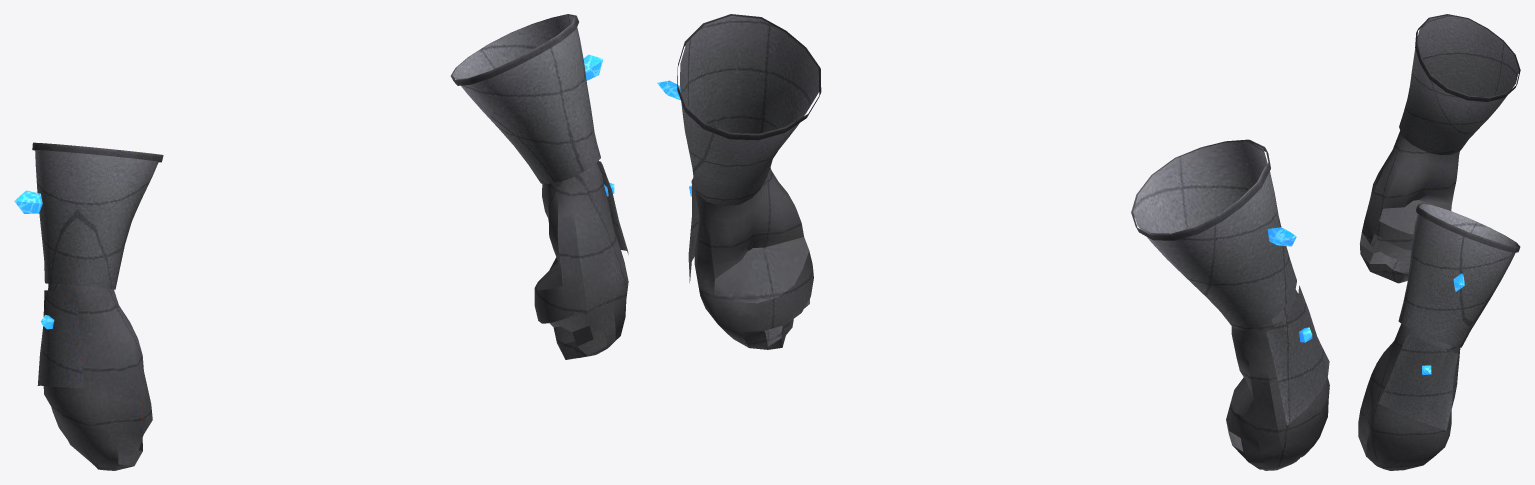
Rendered from Luvas_de_Energia_nivel50.glb.
3 renders of one model, left to right at view 1: azimuth 30°, elevation 25°; view 2: azimuth 150°, elevation 25°; view 3: azimuth 270°, elevation 25°, orthographic. The views are drawn at different scales.
Parts seen in each view (by area): view 1: luvas_de_energia_nivel50; view 2: luvas_de_energia_nivel50; view 3: luvas_de_energia_nivel50.
Part boxes in pixels (x1,y1,x2,y2): luvas_de_energia_nivel50: (14,14,628,470); luvas_de_energia_nivel50: (657,14,1329,470); luvas_de_energia_nivel50: (1358,14,1520,470).
Bounding box in the file's own units: 0.6936 × 0.3555 × 0.1997.
Materials: 1 (1 with a texture image).
